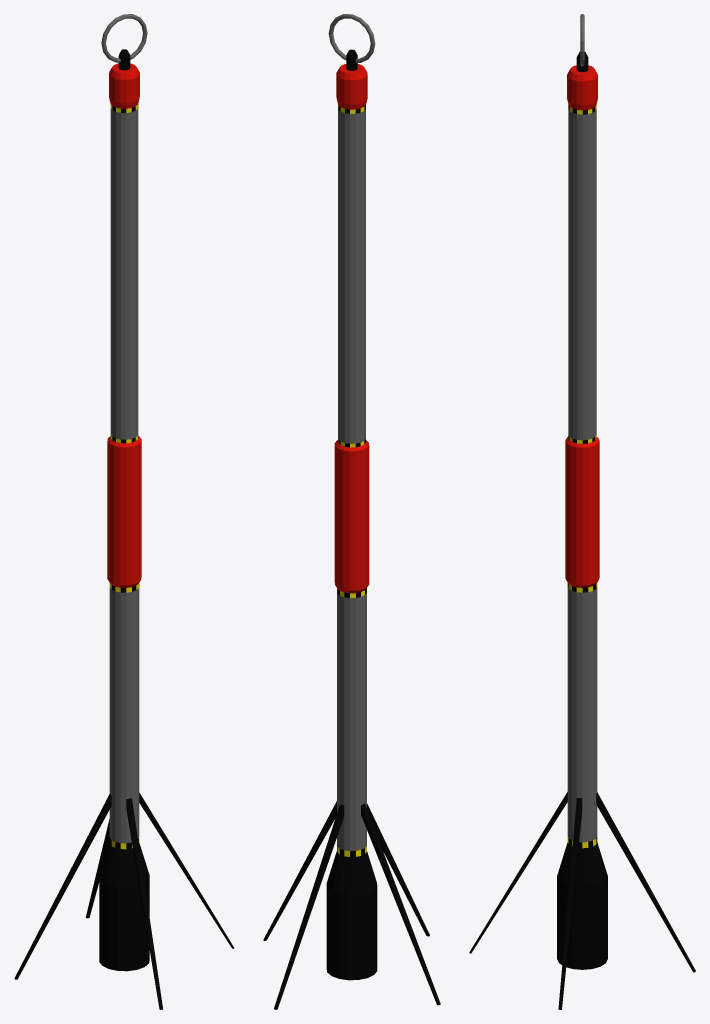
The model's file is ziplinePole.fbx.
The picture shows the model from 3 angles, left to right: view 1: azimuth 30°, elevation 25°; view 2: azimuth 150°, elevation 25°; view 3: azimuth 270°, elevation 25°; orthographic projection.
Parts seen in each view (by area): view 1: Cylinder; view 2: Cylinder; view 3: Cylinder.
Part boxes in pixels (x1,y1,x2,y2): Cylinder: (14,14,234,1009); Cylinder: (263,14,440,1009); Cylinder: (469,14,695,1009).
Size of the model in its own units: 495 by 2279 by 495.
1 material, 1 textured.
